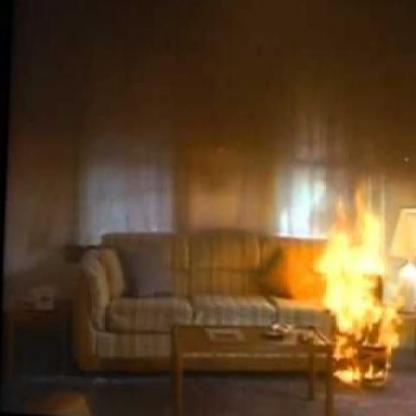fire: (309, 181, 408, 390)
other: (392, 218, 414, 292)
smoke: (2, 1, 413, 196)
